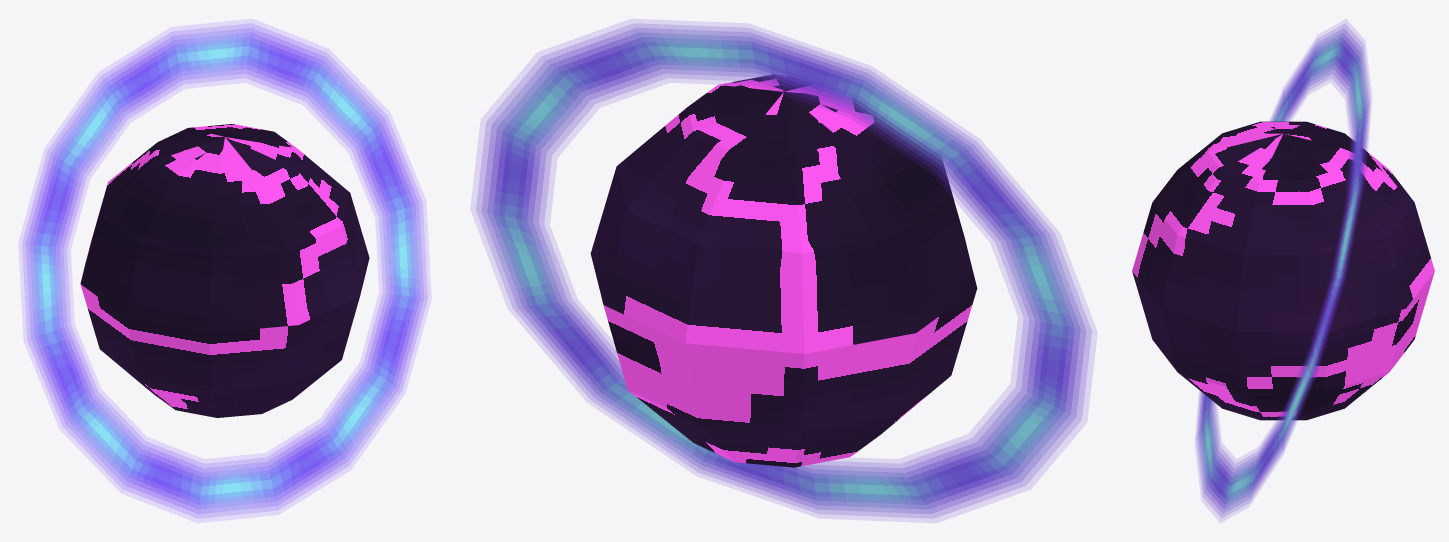
Rendered from core.glb.
3 renders of one model, left to right at view 1: azimuth 30°, elevation 25°; view 2: azimuth 150°, elevation 25°; view 3: azimuth 270°, elevation 25°, orthographic. The views are drawn at different scales.
Visible parts, largest first — view 1: core; view 2: core; view 3: core.
Boxes of the visible parts, x1,y1,x2,y2 form: core: (19,19,430,522); core: (471,19,1096,522); core: (1132,19,1434,522).
Size of the model in its own units: 20.81 by 19.88 by 12.
2 materials, 2 textured.
